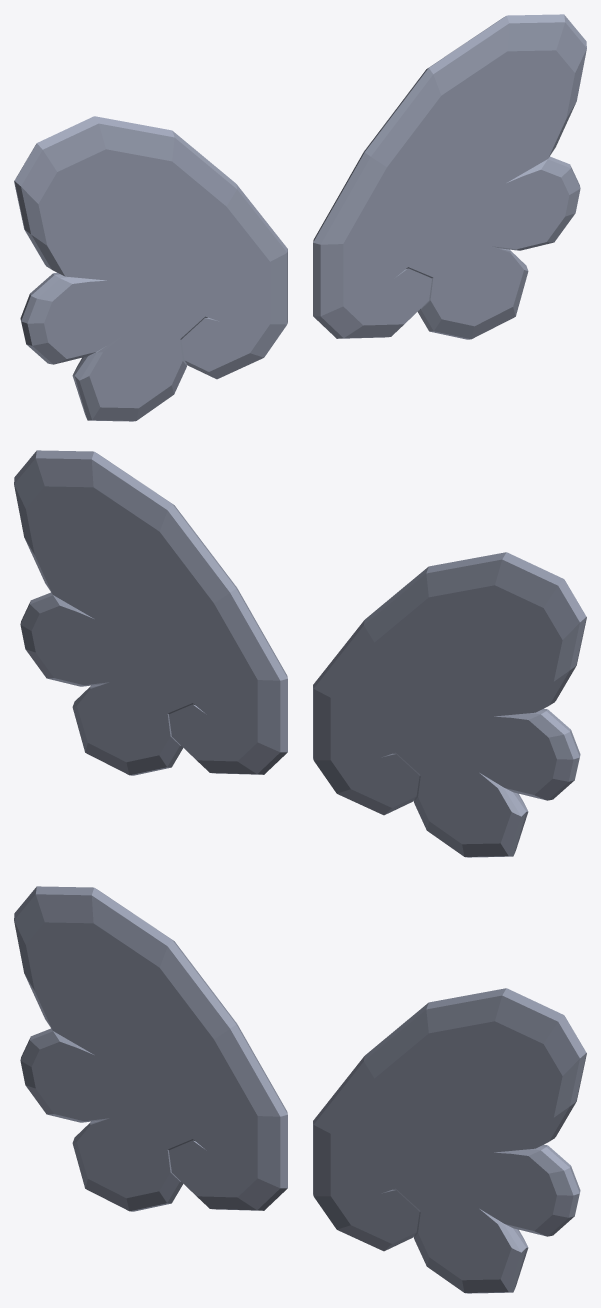
The model's file is Speed Up.fbx.
3 views of the same model, one above another, from view 1: azimuth 30°, elevation 25°; view 2: azimuth 150°, elevation 25°; view 3: azimuth 330°, elevation 25° (orthographic).
Parts seen in each view (by area): view 1: Wings; view 2: Wings; view 3: Wings.
Part boxes in pixels (left/top/right/bottom): Wings: left=14, top=14, right=586, bottom=421; Wings: left=14, top=450, right=586, bottom=857; Wings: left=14, top=886, right=586, bottom=1293.
Size of the model in its own units: 70.07 by 36.86 by 2.65.
